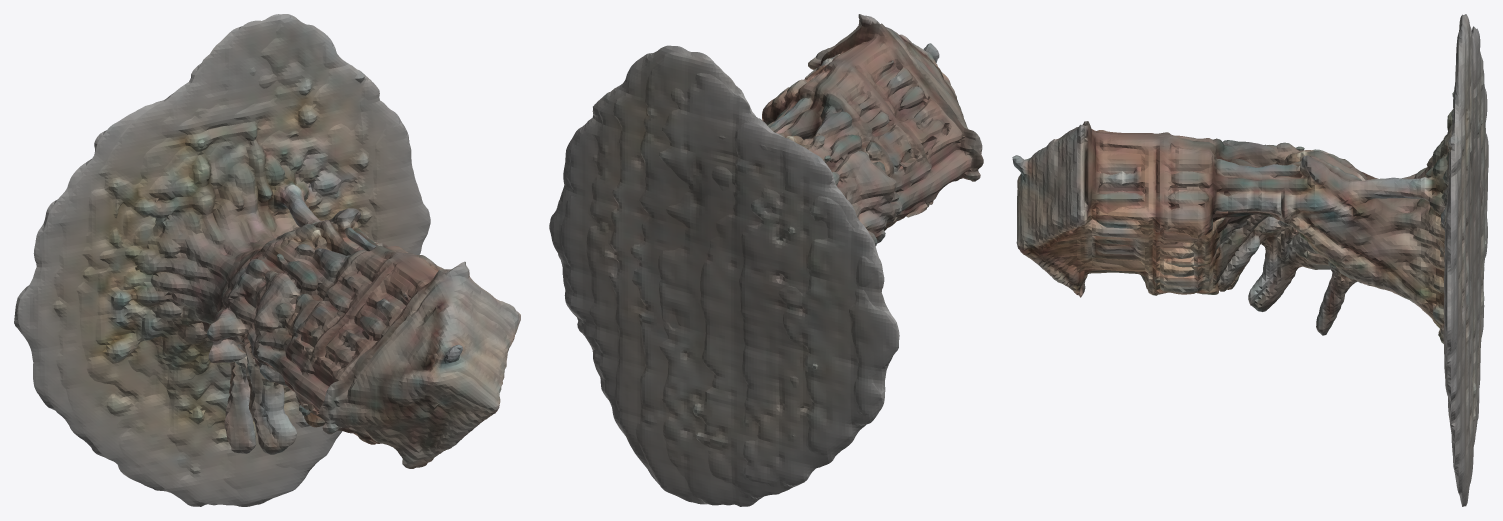
The picture shows the model from 3 angles, left to right: view 1: azimuth 30°, elevation 25°; view 2: azimuth 150°, elevation 25°; view 3: azimuth 270°, elevation 25°; orthographic projection. The views are drawn at different scales.
Parts seen in each view (by area): view 1: world; view 2: world; view 3: world.
Part boxes in pixels (x1=…): world: x1=14, y1=14, x2=520, y2=506; world: x1=549, y1=14, x2=983, y2=506; world: x1=1012, y1=14, x2=1488, y2=506.
Bounding box in the file's own units: 0.8131 × 0.9538 × 0.8602.
